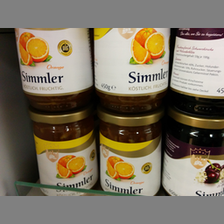jam: (13, 28, 96, 108), (92, 28, 171, 109), (29, 108, 98, 195), (98, 108, 163, 195), (162, 108, 223, 196)
